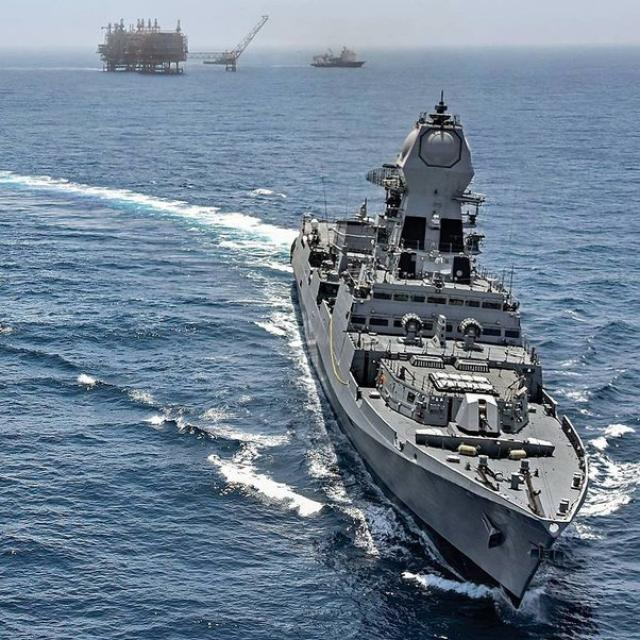Destroyer-Kolkata-Class-IND: (279, 84, 602, 615)
